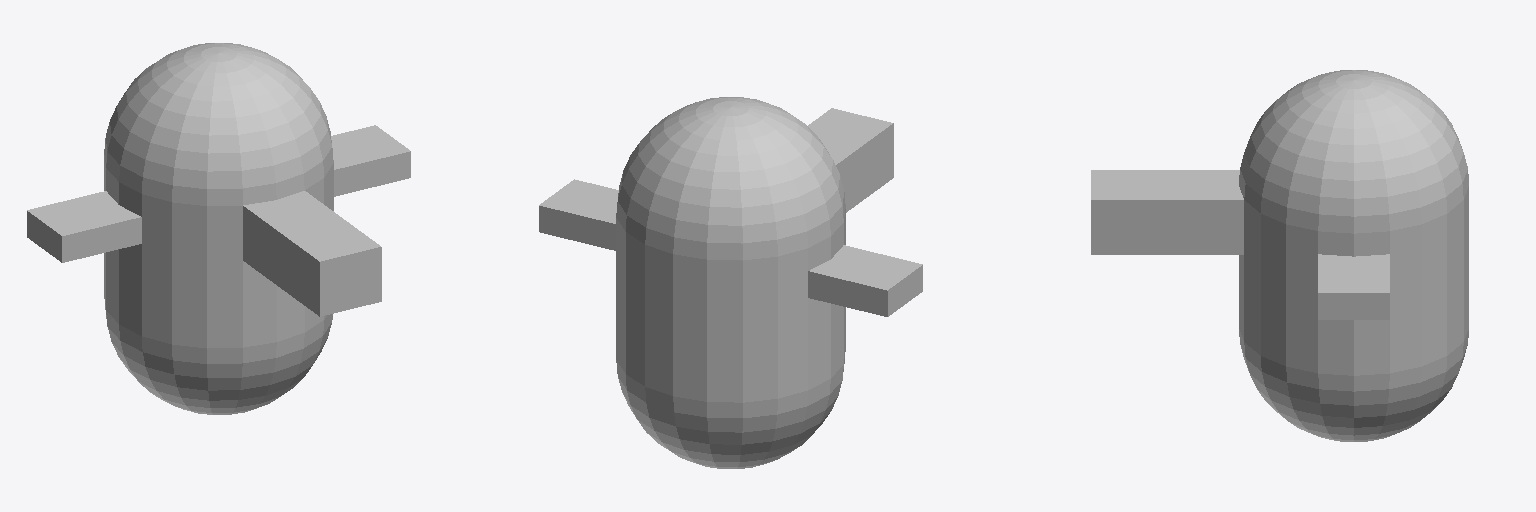
The model's file is player.obj.
The picture shows the model from 3 angles: view 1: azimuth 30°, elevation 25°; view 2: azimuth 150°, elevation 25°; view 3: azimuth 270°, elevation 25°; orthographic projection.
Visible parts, largest first — view 1: initialShadingGroup pSphere1; view 2: initialShadingGroup pSphere1; view 3: initialShadingGroup pSphere1.
Boxes of the visible parts, box(x1,y1,x2,y2) form: initialShadingGroup pSphere1: box(27, 43, 410, 414); initialShadingGroup pSphere1: box(539, 97, 922, 468); initialShadingGroup pSphere1: box(1091, 70, 1468, 441).
Size of the model in its own units: 1.8 by 1.73 by 1.69.